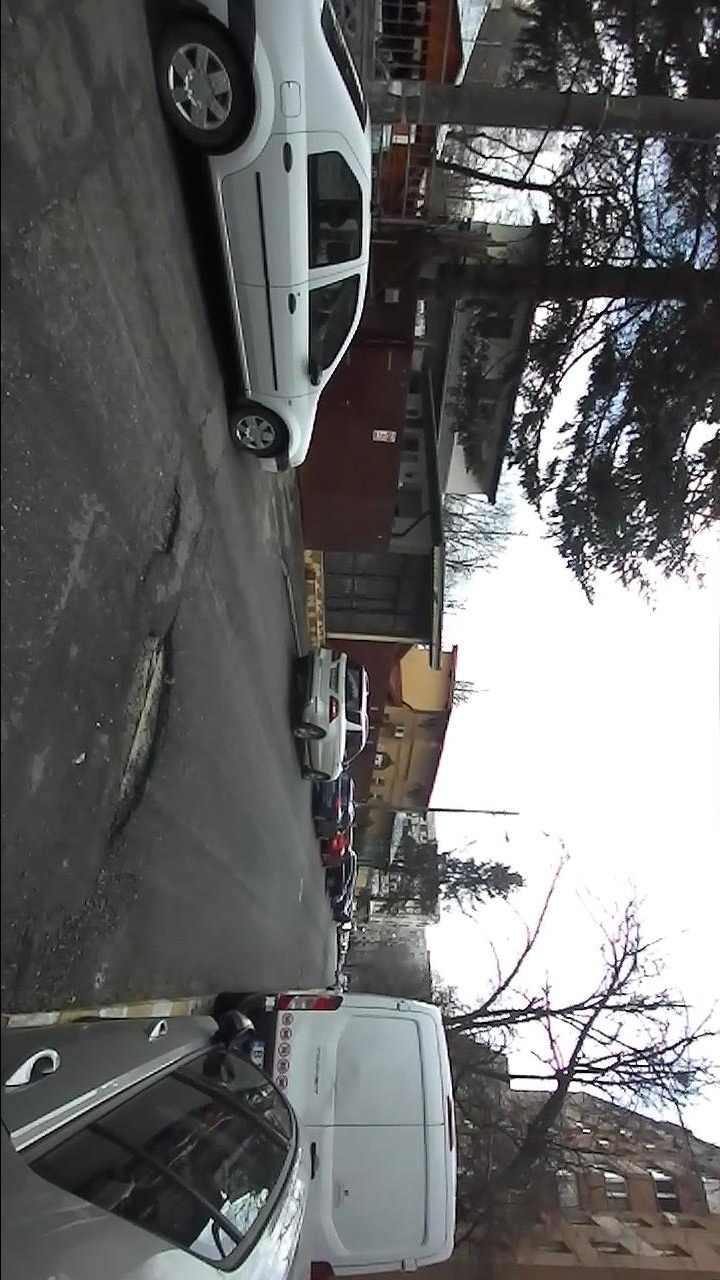pothole: (95, 616, 180, 858), (143, 472, 184, 572)
